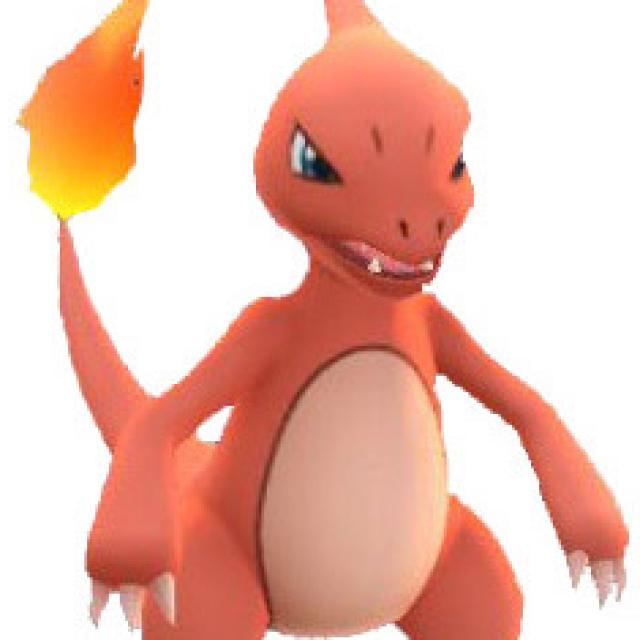Charmeleon: (23, 3, 628, 640)
